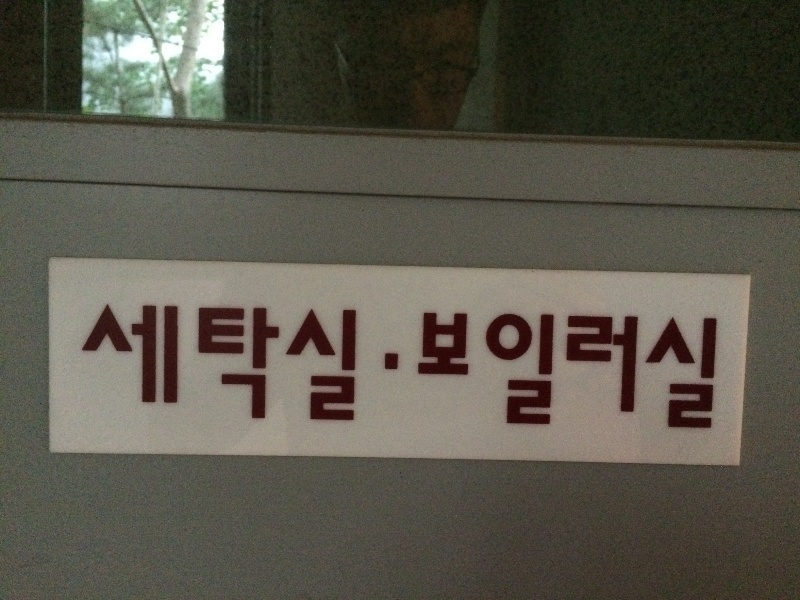text: (97, 300, 112, 422), (113, 300, 128, 422), (129, 300, 144, 422), (145, 300, 160, 422), (161, 300, 176, 422), (177, 300, 192, 422), (193, 300, 208, 422), (209, 300, 224, 422), (225, 300, 240, 422), (241, 300, 256, 422), (257, 300, 272, 422), (273, 300, 288, 422), (289, 300, 304, 422), (305, 300, 320, 422), (321, 300, 336, 422), (337, 300, 352, 422), (433, 312, 448, 433), (449, 312, 464, 433), (465, 312, 480, 433), (481, 312, 496, 433), (497, 312, 512, 433), (513, 312, 528, 433), (529, 312, 544, 433), (545, 312, 560, 433), (561, 312, 576, 433), (577, 312, 592, 433), (593, 312, 608, 433), (609, 312, 624, 433), (625, 312, 640, 433), (641, 312, 656, 433), (657, 312, 672, 433), (673, 312, 688, 433), (689, 312, 704, 433), (705, 312, 718, 433), (84, 300, 96, 422), (421, 312, 432, 433), (353, 300, 358, 422)
